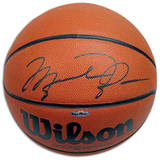basketball: (4, 4, 157, 157)
